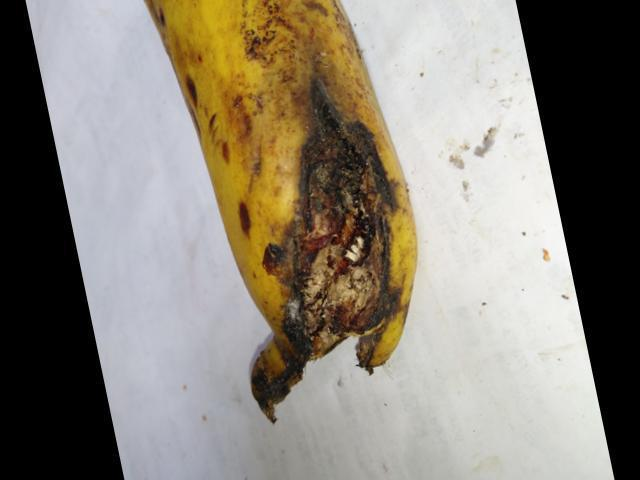rotten: (224, 85, 443, 389)
